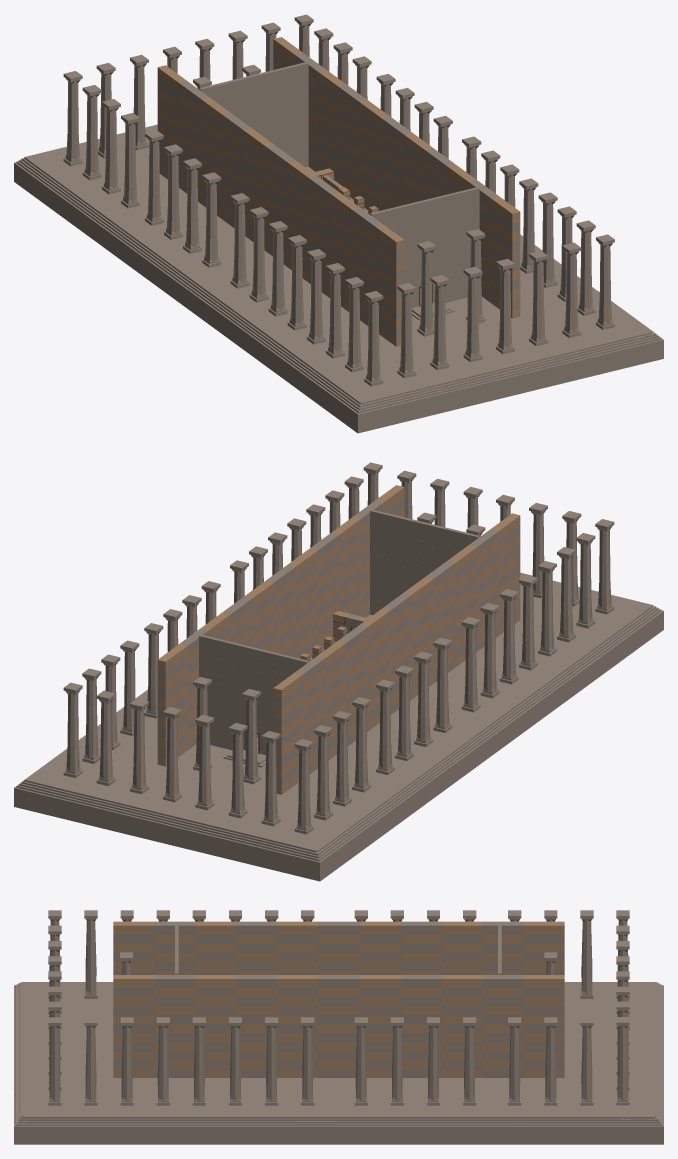
The model's file is Temple01_Solid_v01.fbx.
The picture shows the model from 3 angles, top to bottom: view 1: azimuth 30°, elevation 25°; view 2: azimuth 150°, elevation 25°; view 3: azimuth 270°, elevation 25°; orthographic projection. The views are drawn at different scales.
Parts seen in each view (by area): view 1: Cube.021; view 2: Cube.021; view 3: Cube.021.
Part boxes in pixels (x1=…): Cube.021: x1=14, y1=14, x2=663, y2=433; Cube.021: x1=14, y1=462, x2=663, y2=881; Cube.021: x1=14, y1=910, x2=663, y2=1144.
Bounding box in the file's own units: 3700 × 1565 × 7200.
